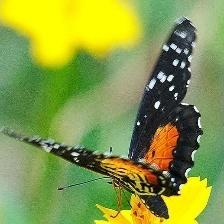butterfly: (3, 18, 203, 220)
